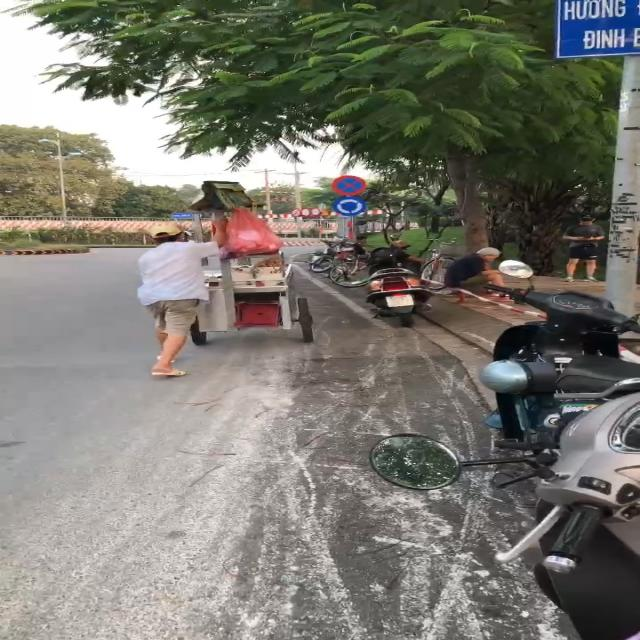Bien bao cam dung xe va do xe: (330, 173, 370, 196)
Bien bao noi giao nhau chay theo vong xuyen: (330, 197, 370, 217)
